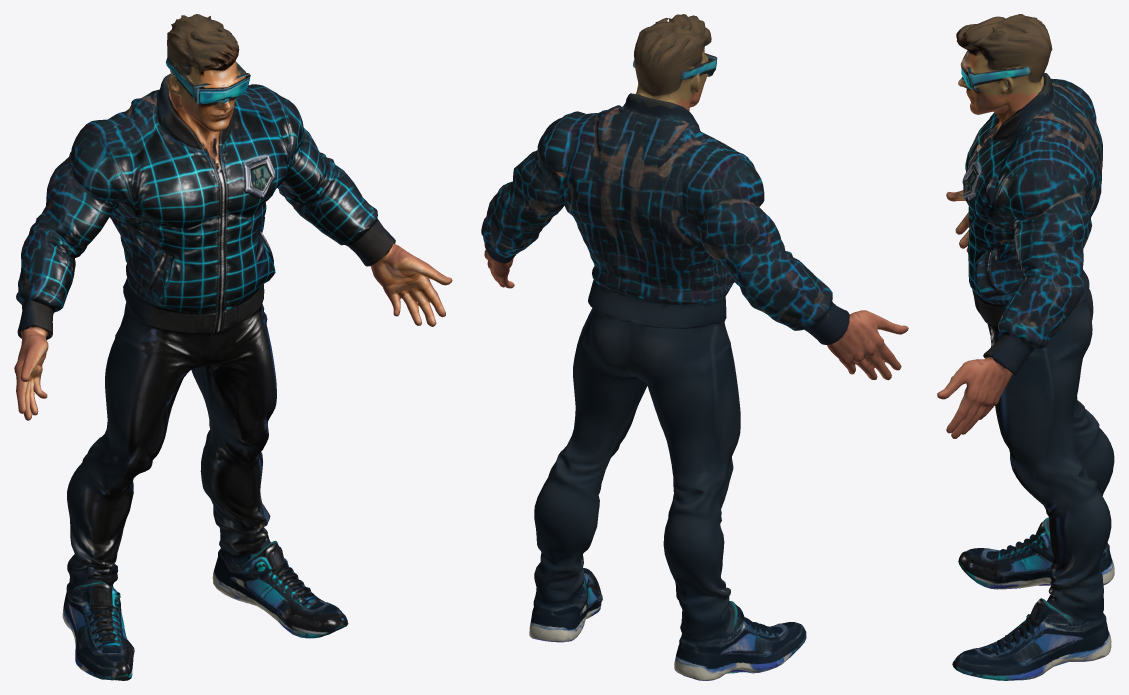
The model's file is synthwave-grid_body.glb.
3 renders of one model, left to right at view 1: azimuth 30°, elevation 25°; view 2: azimuth 150°, elevation 25°; view 3: azimuth 270°, elevation 25°, orthographic. The views are drawn at different scales.
Visible parts, largest first — view 1: synthwave-grid; view 2: synthwave-grid; view 3: synthwave-grid.
Part boxes in pixels (x1=…): synthwave-grid: x1=14, y1=14, x2=452, y2=680; synthwave-grid: x1=481, y1=14, x2=908, y2=680; synthwave-grid: x1=937, y1=14, x2=1114, y2=680.
Bounding box in the file's own units: 1.28 × 1.81 × 0.4774.
Materials: 2 (2 with a texture image).
